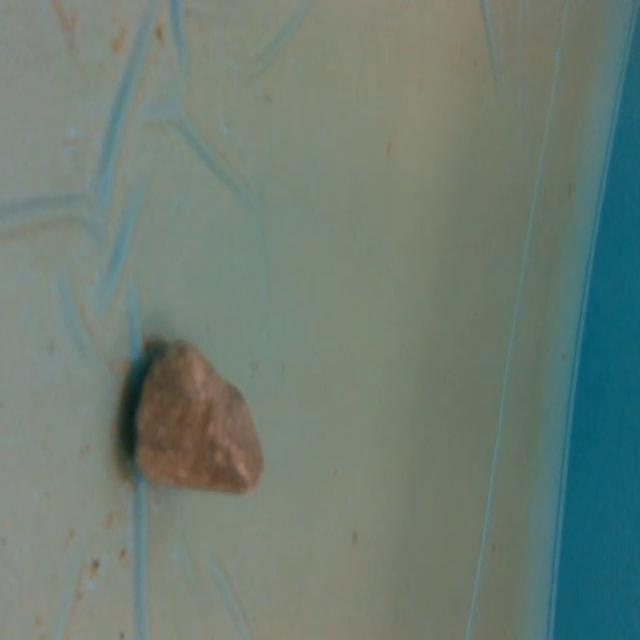rock: (121, 331, 272, 502)
